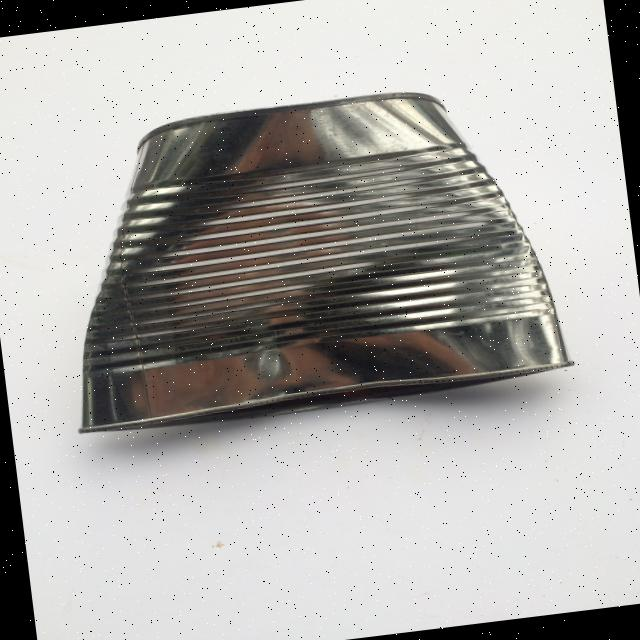metal: (42, 72, 576, 438)
